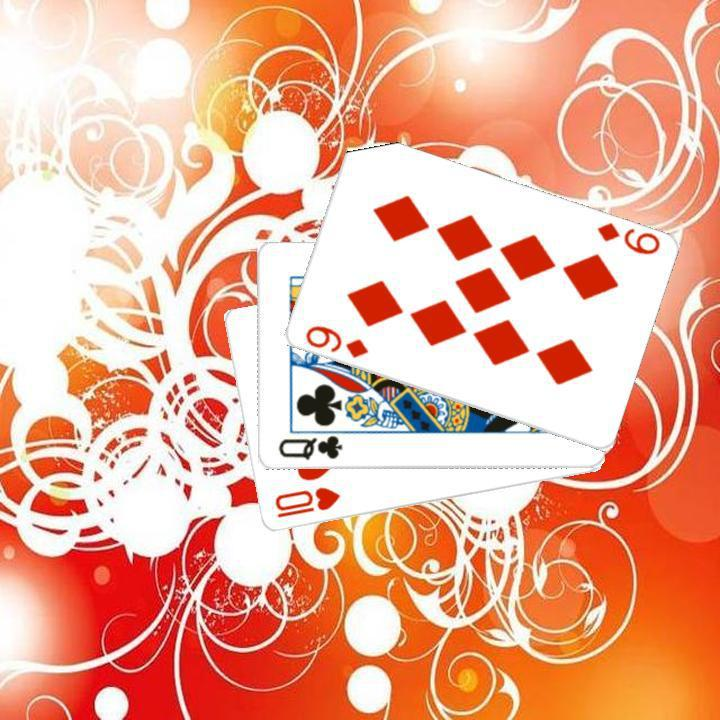10: (270, 483, 342, 521)
9: (300, 321, 370, 361), (592, 218, 662, 257)
Q: (274, 432, 344, 462)
